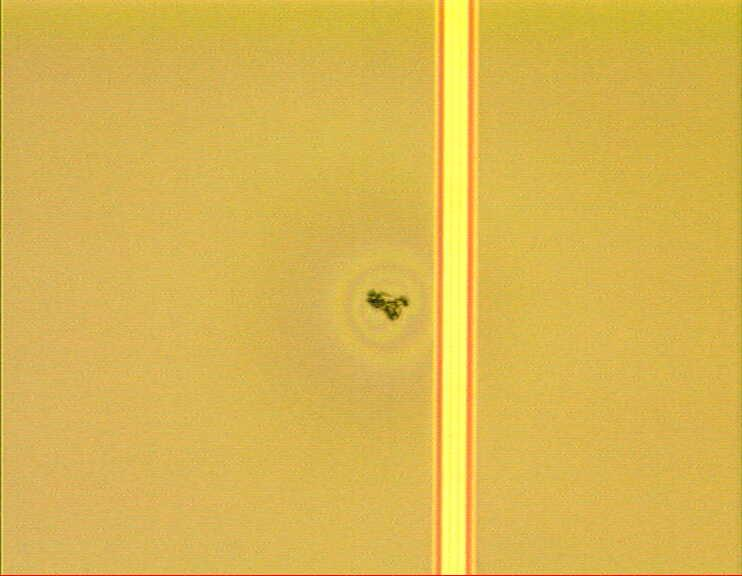PIQ PARTICLE: (359, 282, 413, 325)
